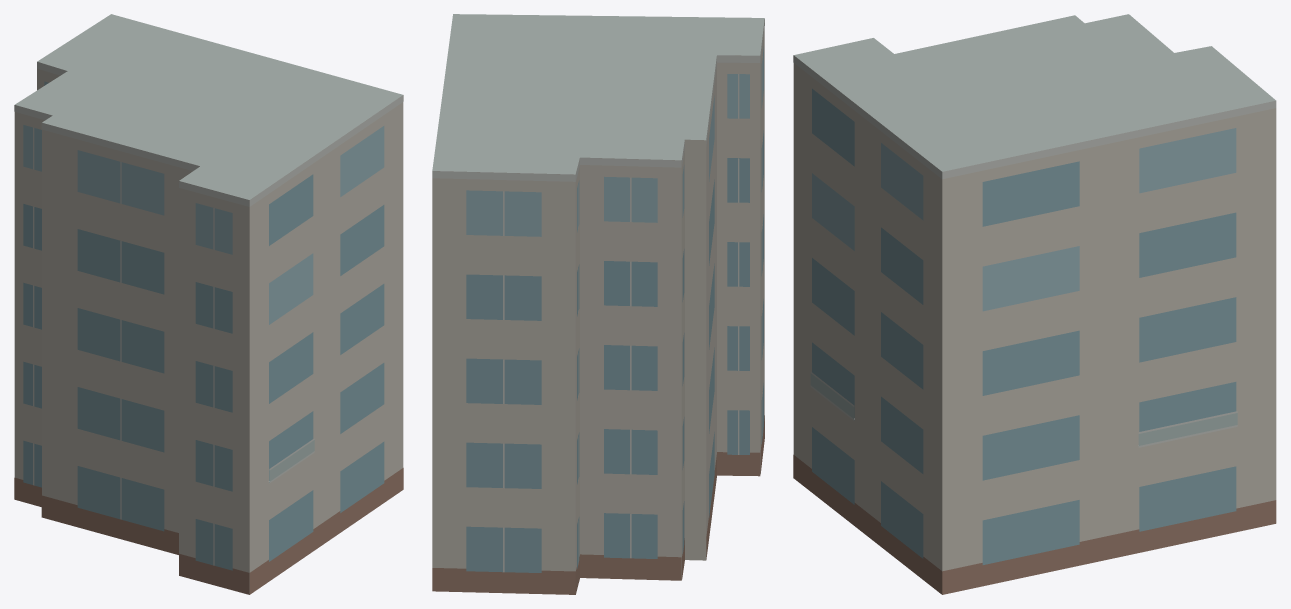
File: survey-upis-32975903.glb
The picture shows the model from 3 angles, left to right: view 1: azimuth 30°, elevation 25°; view 2: azimuth 150°, elevation 25°; view 3: azimuth 270°, elevation 25°; orthographic projection. The views are drawn at different scales.
Parts seen in each view (by area): view 1: survey-upis-32975903.tmp; view 2: survey-upis-32975903.tmp; view 3: survey-upis-32975903.tmp.
Part boxes in pixels (x1=…): survey-upis-32975903.tmp: x1=14, y1=14, x2=403, y2=594; survey-upis-32975903.tmp: x1=432, y1=14, x2=764, y2=594; survey-upis-32975903.tmp: x1=793, y1=14, x2=1276, y2=594.
Size of the model in its own units: 11.13 by 13.9 by 14.39.
